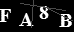8: (38, 5, 50, 20)
A: (17, 12, 35, 27)
B: (58, 13, 73, 28)
F: (1, 8, 12, 22)
